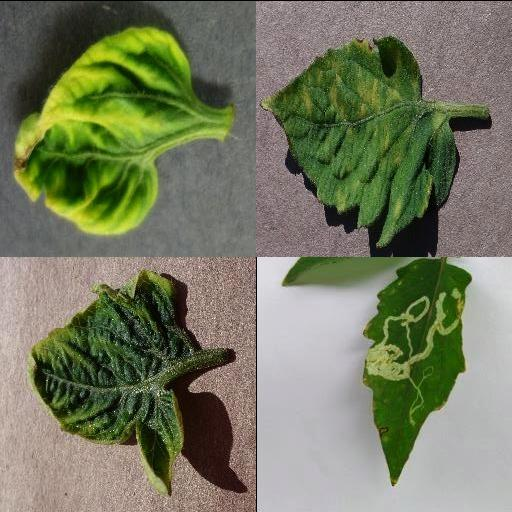Leaf Miner: (360, 256, 473, 489)
Leaf Mold: (257, 36, 459, 248)
Yellow Leaf Curl Virus: (28, 266, 192, 496), (13, 26, 193, 234)
